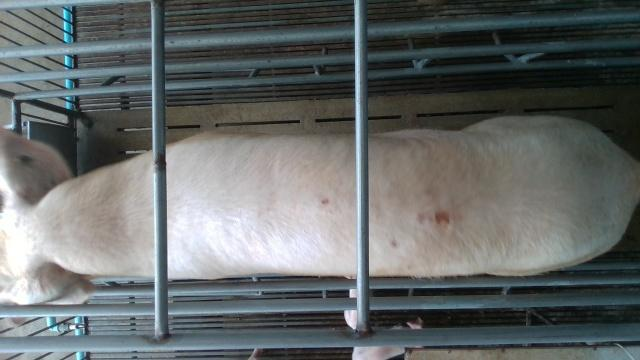piglet: (352, 315, 425, 358), (345, 278, 358, 329)
sow-stand-feed: (2, 115, 640, 303)
